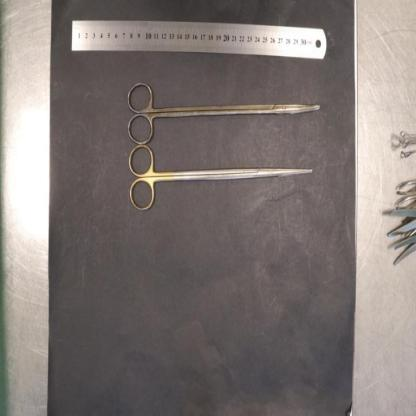7 Metzenbaum Scissors: (128, 145, 314, 211)
9 Metzenbaum Scissors: (126, 80, 320, 144)
